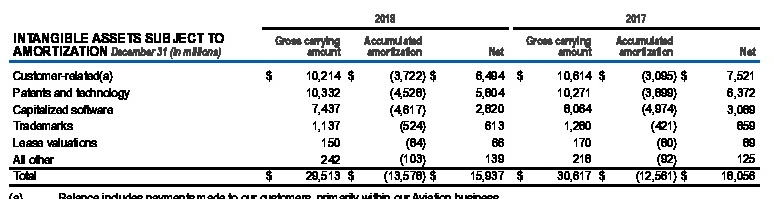table: (0, 0, 774, 199)
